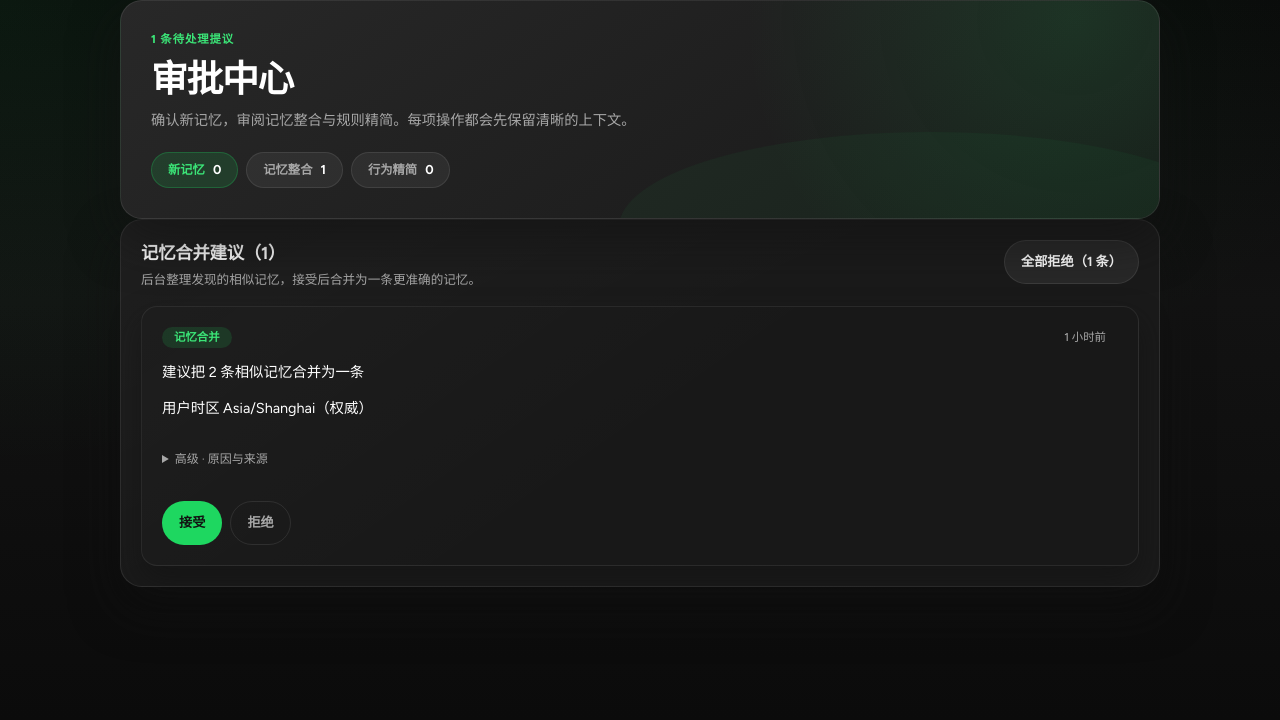
Test case: ApprovalCenterPage › consolidation 全部拒绝按 rejected 结果移除
expect the text "建议把 2 条相似记忆合并为一条" is shown: met, box left=162, top=363, right=364, bottom=381
Click the button "全部拒绝（1 条）": (1072, 262) left=1004, top=240, right=1139, bottom=284
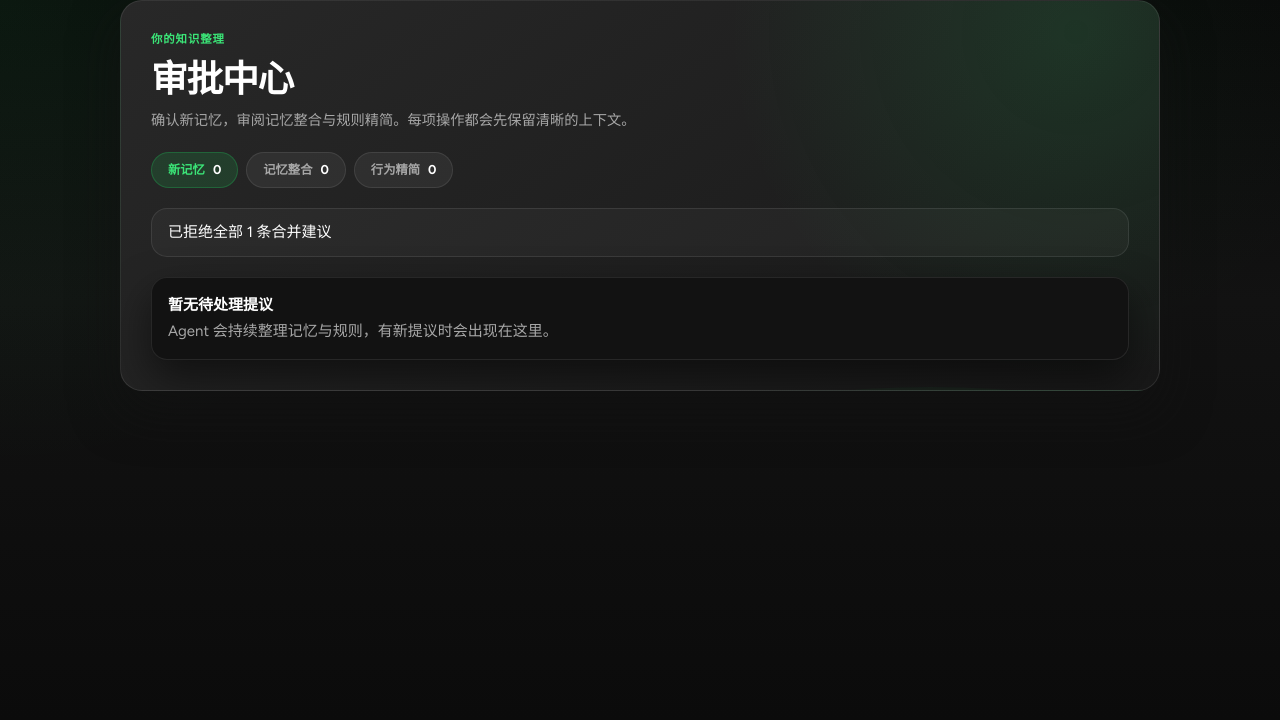
expect the text "建议把 2 条相似记忆合并为一条" is gone: met
expect the text "暂无待处理提议" is shown: met, box left=168, top=296, right=273, bottom=314
